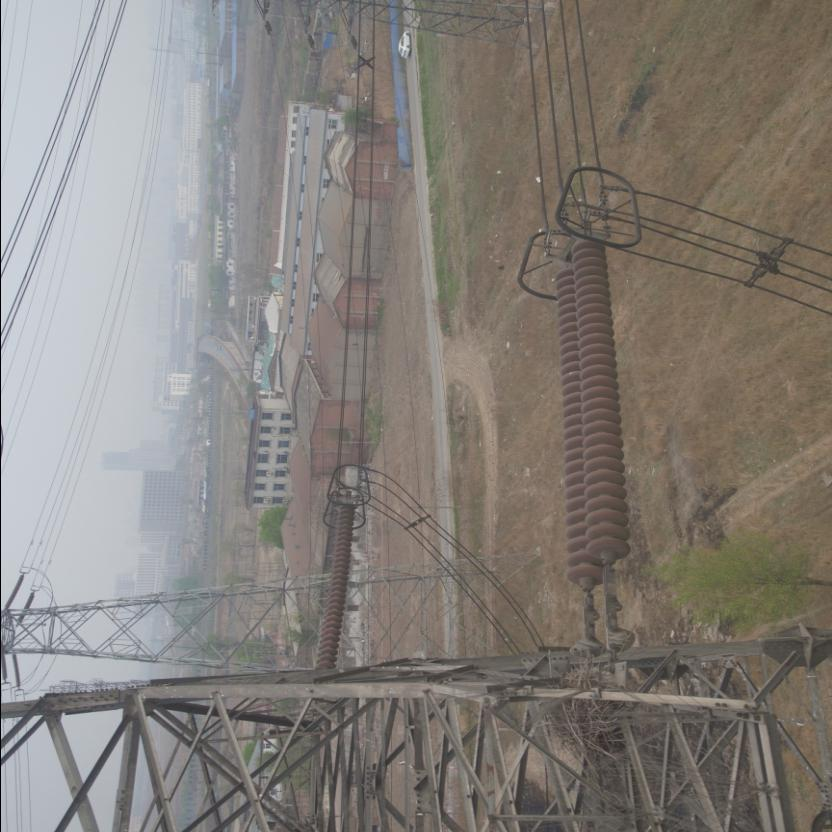insulator: (548, 224, 634, 624), (312, 496, 354, 666)
